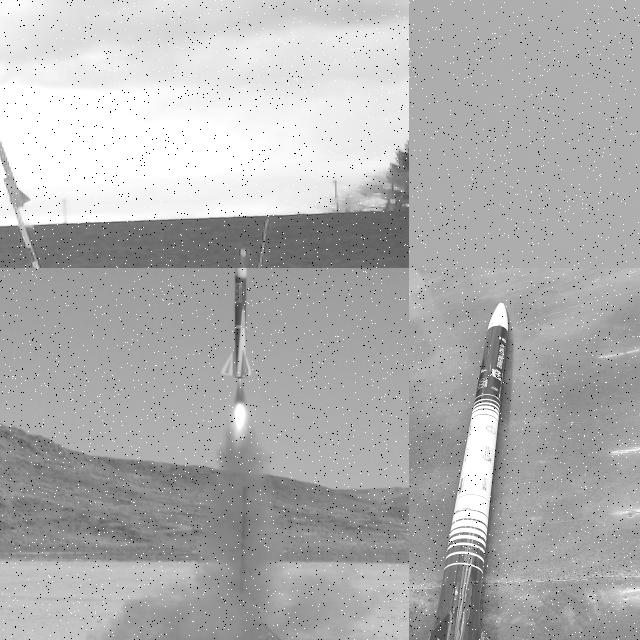Rocket: (427, 302, 509, 640), (220, 268, 253, 379), (0, 96, 32, 208)
